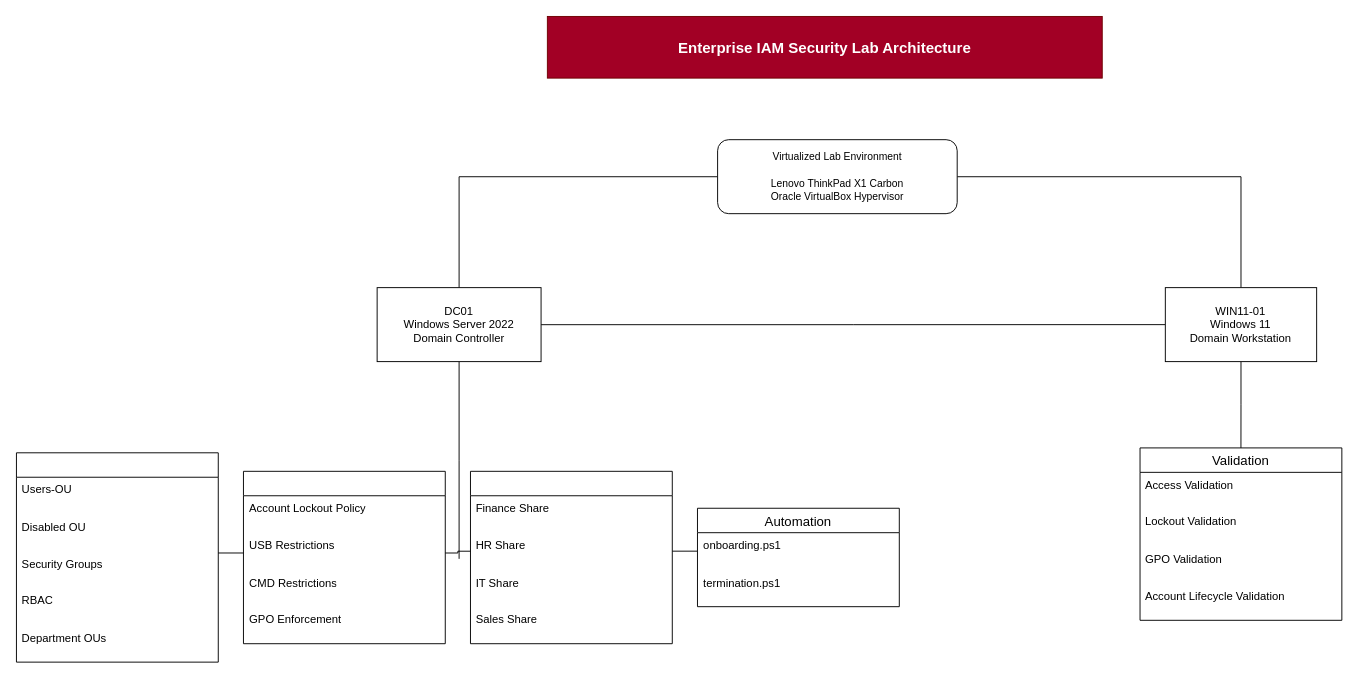
Some shapes in this 1358 by 686 pixel diagram are drawn without their labels. The shapes that lost their labels are listed below. From the top down, each one's box as (x1, y1, x2, y2) in pixels, then its label:
(16, 452, 218, 662): Identity Management
(243, 470, 445, 644): Security Controls
(470, 470, 672, 644): Department Resources
